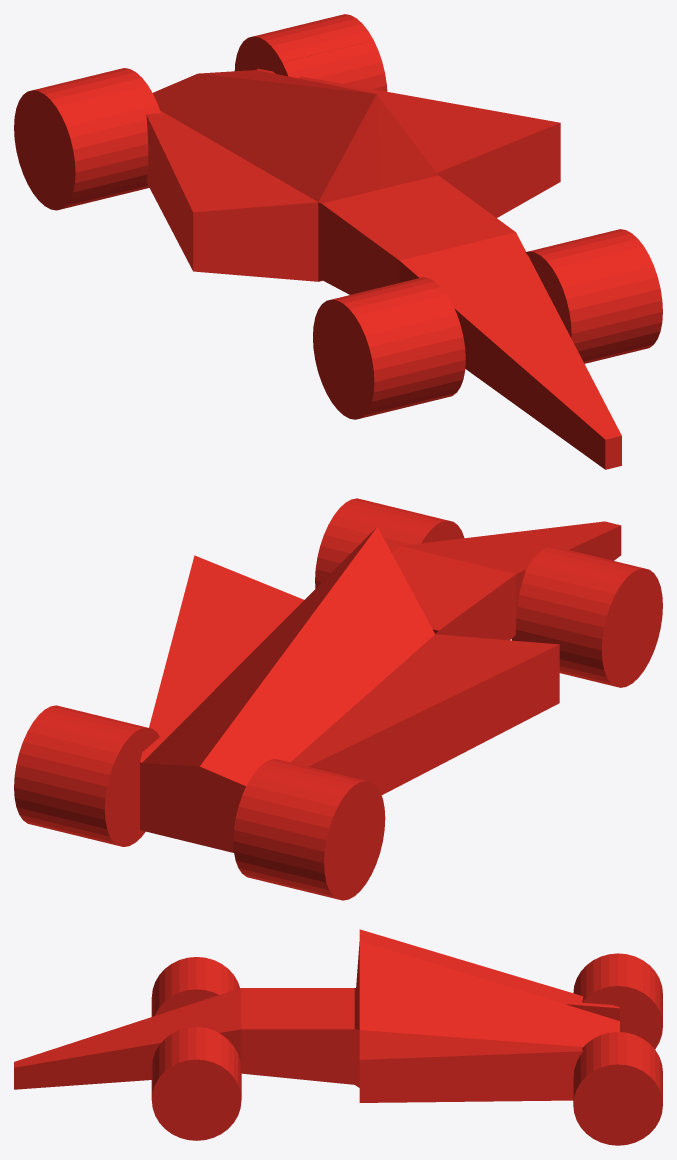
File: lowpolycar.gltf
3 views of the same model, one above another, from view 1: azimuth 30°, elevation 25°; view 2: azimuth 150°, elevation 25°; view 3: azimuth 270°, elevation 25° (orthographic). The views are drawn at different scales.
Parts seen in each view (by area): view 1: Cube; view 2: Cube; view 3: Cube.
Part boxes in pixels (x1,y1,x2,y2): Cube: [14, 14, 662, 469]; Cube: [14, 498, 662, 900]; Cube: [14, 929, 662, 1145].
Size of the model in its own units: 6.31 by 3.35 by 13.25.
